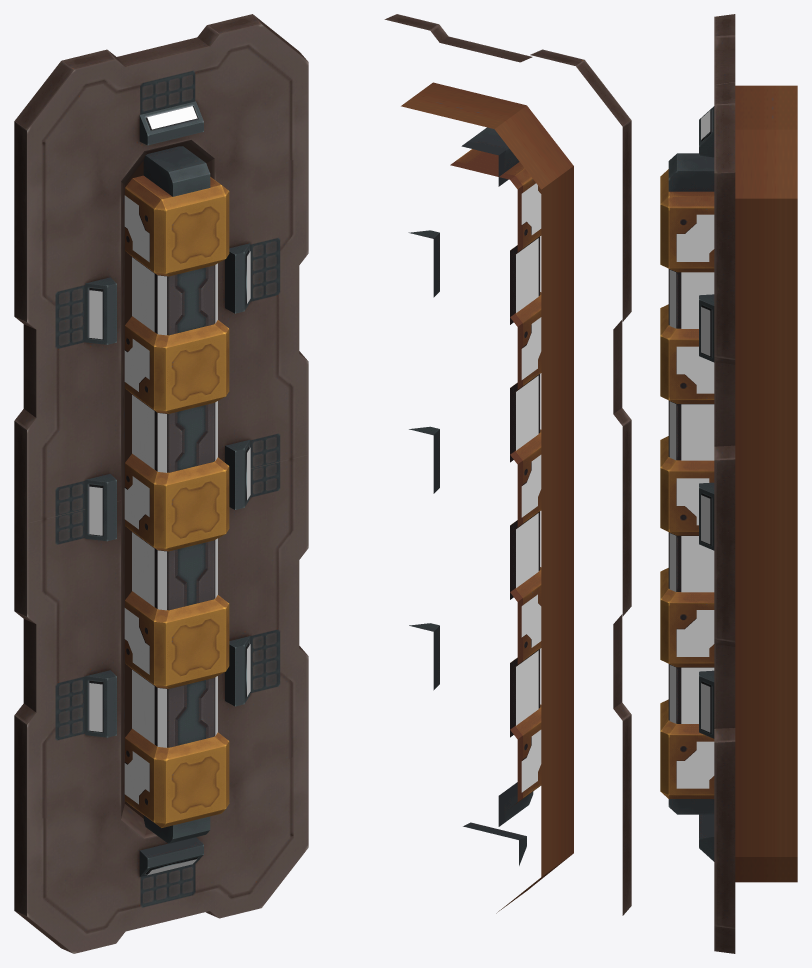
The model's file is table_warroom_01.glb.
The picture shows the model from 3 angles, left to right: view 1: azimuth 30°, elevation 25°; view 2: azimuth 150°, elevation 25°; view 3: azimuth 270°, elevation 25°; orthographic projection. The views are drawn at different scales.
Parts seen in each view (by area): view 1: warroom.table_warroom_01-Mesh[0], warroom.table_warroom_01-Mesh[1], warroom.table_warroom_01-Mesh[2]; view 2: warroom.table_warroom_01-Mesh[0], warroom.table_warroom_01-Mesh[1]; view 3: warroom.table_warroom_01-Mesh[0], warroom.table_warroom_01-Mesh[1], warroom.table_warroom_01-Mesh[2].
Boxes of the visible parts, x1,y1,x2,y2 form: warroom.table_warroom_01-Mesh[0]: (14, 14, 308, 953); warroom.table_warroom_01-Mesh[1]: (124, 195, 217, 804); warroom.table_warroom_01-Mesh[2]: (89, 106, 250, 875); warroom.table_warroom_01-Mesh[0]: (384, 14, 631, 915); warroom.table_warroom_01-Mesh[1]: (516, 183, 541, 792); warroom.table_warroom_01-Mesh[0]: (660, 14, 797, 953); warroom.table_warroom_01-Mesh[1]: (669, 214, 714, 788); warroom.table_warroom_01-Mesh[2]: (701, 110, 710, 732).
Size of the model in its own units: 3.04 by 9.04 by 1.32.
Materials: 2 (1 with a texture image).
